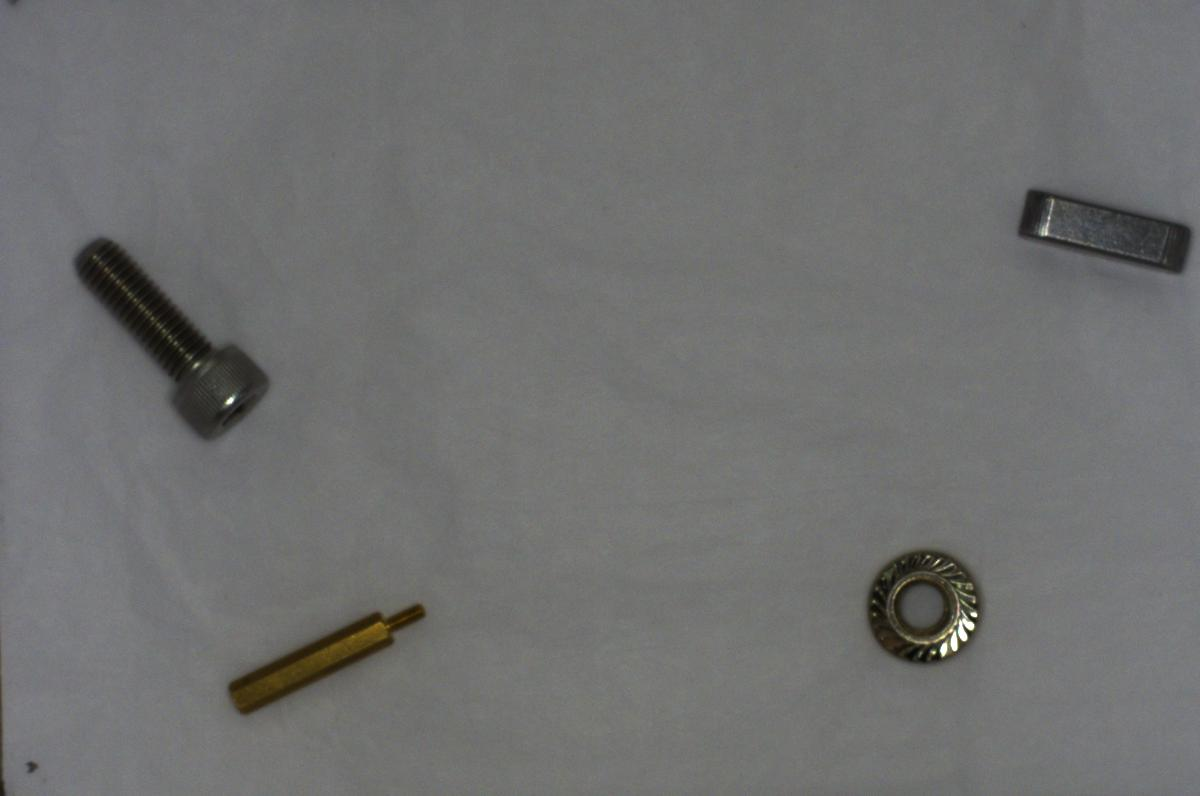Flange nut: (862, 539, 986, 662)
Hexagon pillar: (219, 590, 427, 716)
Hexagon screw: (65, 233, 275, 445)
Keybar: (1015, 181, 1191, 278)
